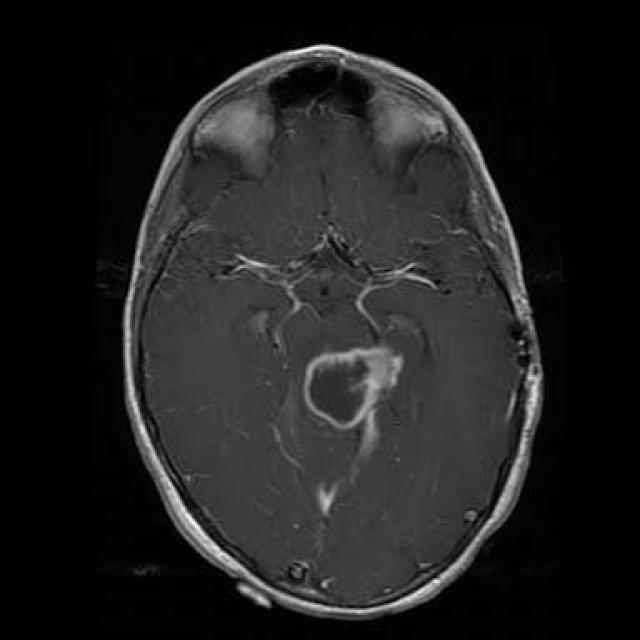glioma: (298, 342, 402, 434)
